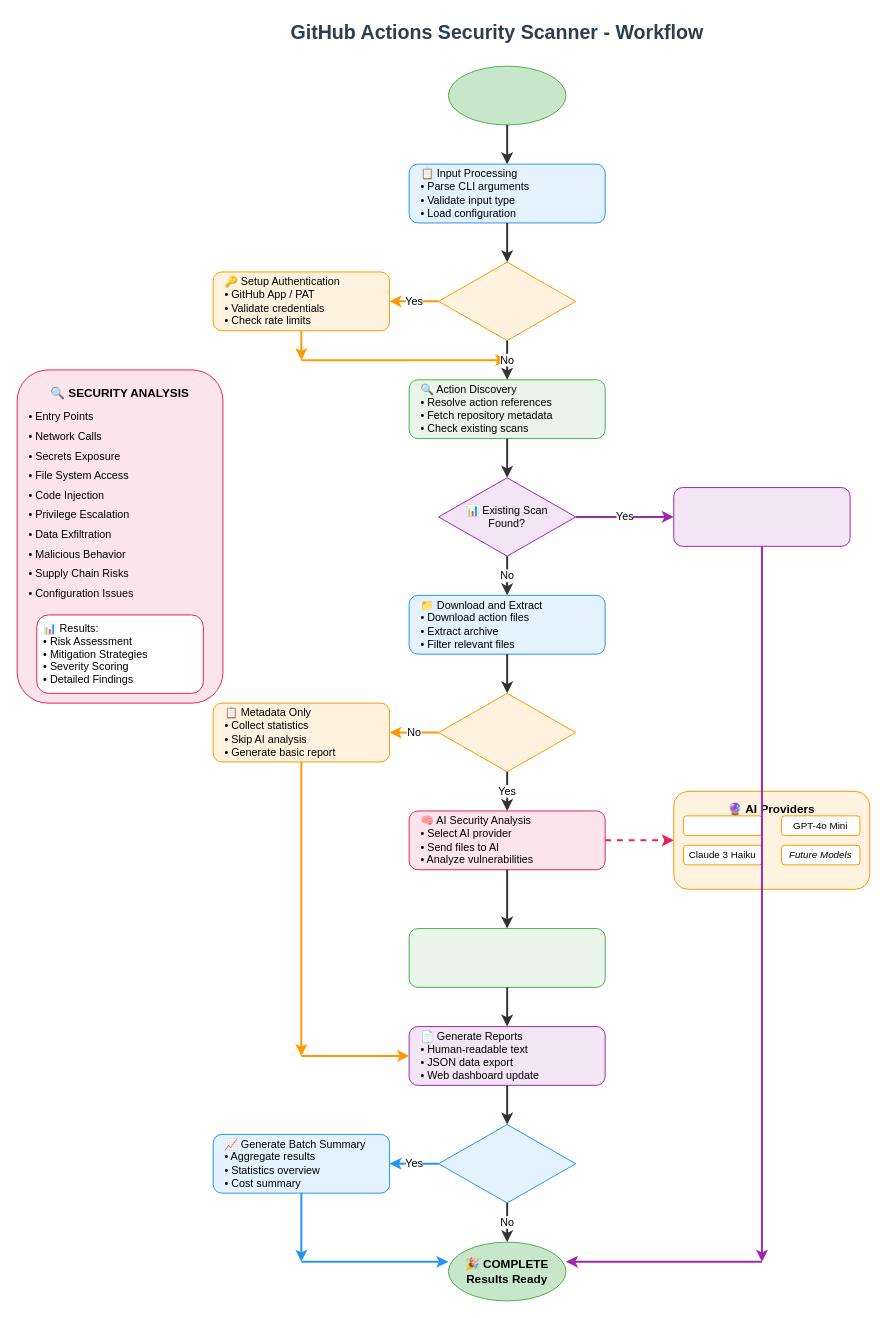
Image size: 887x1318. Some labels were removed from this diagram. The centre of each missing label's shape, as x and y in pixels:
"Gemini 2.5 Flash" goes at point (722, 825).
"♻️ Use Existing Results • Load cached data • Generate report • Update metadata" goes at point (761, 516).
"⚙️ Process Results • Validate JSON response • Calculate costs • Save scan data" goes at point (506, 957).
"📊 Batch Mode?" goes at point (507, 1163).
"🔐 Authentication Required?" goes at point (507, 301).
"🚀 START User Input" goes at point (506, 95).
"🤖 AI Analysis Enabled?" goes at point (507, 732).
